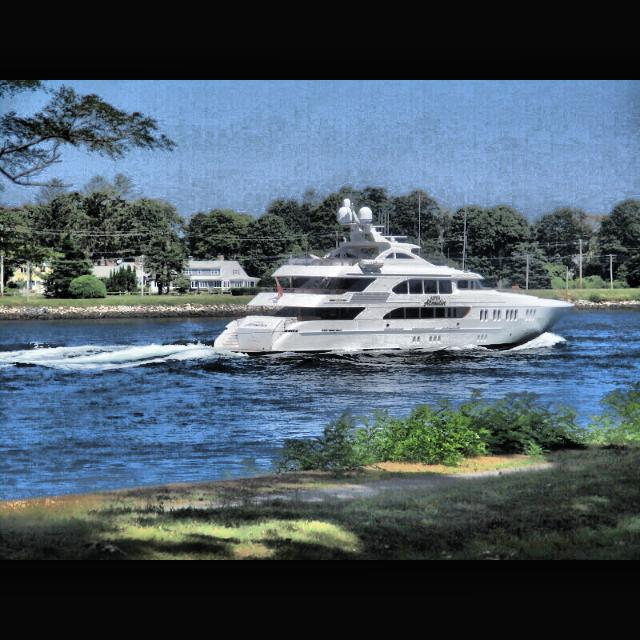yacht: (213, 205, 574, 357)
